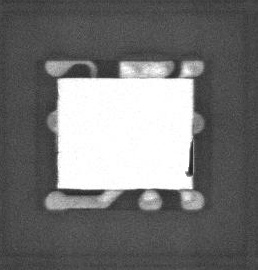DIE_BROKEN: (184, 136, 195, 178)
